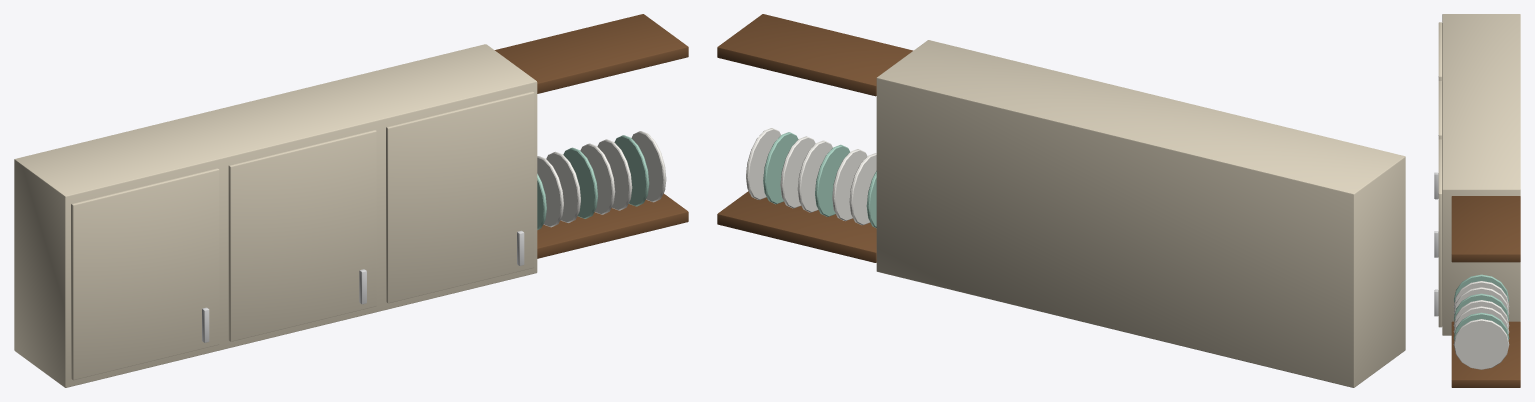
File: mae_wall_cupboards.glb
3 renders of one model, left to right at view 1: azimuth 30°, elevation 25°; view 2: azimuth 150°, elevation 25°; view 3: azimuth 270°, elevation 25°, orthographic. The views are drawn at different scales.
Visible parts, largest first — view 1: mae_wall_cupboards; view 2: mae_wall_cupboards; view 3: mae_wall_cupboards.
Part boxes in pixels (x1,y1,x2,y2): mae_wall_cupboards: (14, 14, 688, 387); mae_wall_cupboards: (717, 14, 1405, 387); mae_wall_cupboards: (1434, 14, 1520, 387).
Bounding box in the file's own units: 2.4 × 0.7 × 0.375.
